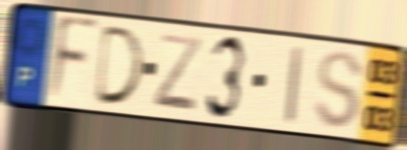3: (202, 34, 255, 123)
D: (91, 23, 148, 108)
F: (44, 12, 102, 107)
I: (283, 43, 306, 129)
S: (312, 47, 366, 132)
Z: (151, 30, 204, 115)
